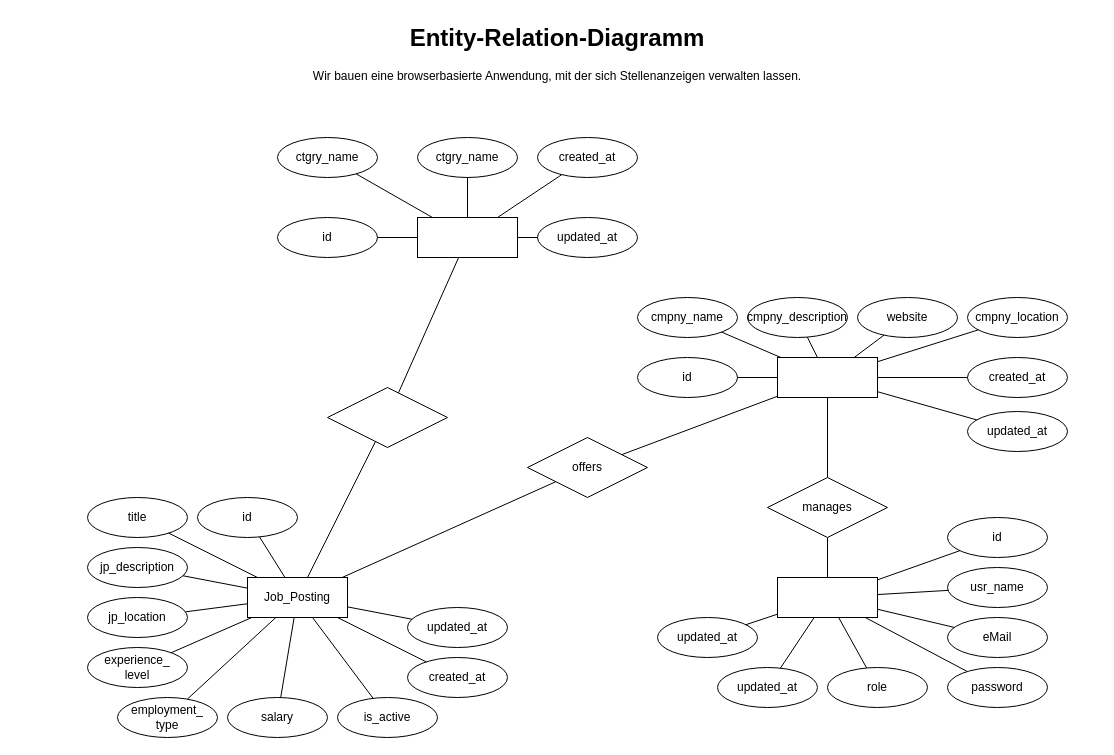
Some shapes in this 1114 by 755 pixel diagram are drawn without their labels. Each missing label, with the centre of its shape:
"Category" belongs at pixel 467 237.
"Company" belongs at pixel 827 377.
"has many" belongs at pixel 387 417.
"User" belongs at pixel 827 597.
